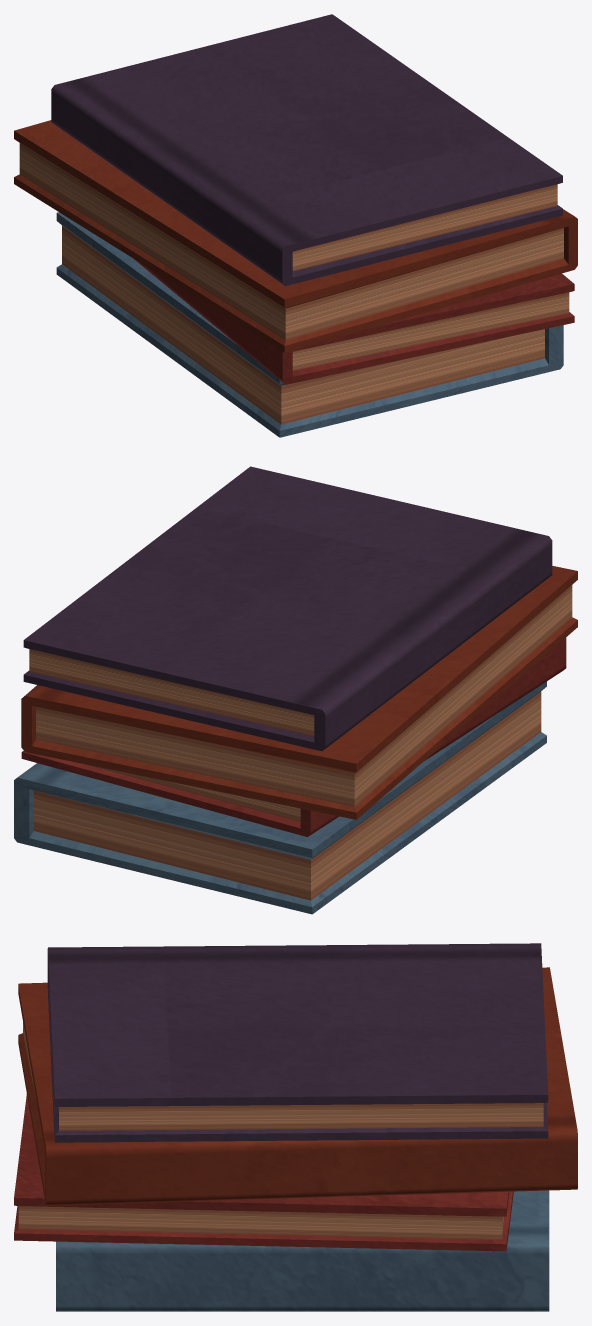
The model's file is books.fbx.
3 views of the same model, one above another, from view 1: azimuth 30°, elevation 25°; view 2: azimuth 150°, elevation 25°; view 3: azimuth 270°, elevation 25° (orthographic). The views are drawn at different scales.
Parts seen in each view (by area): view 1: Books; view 2: Books; view 3: Books.
Part boxes in pixels (x1,y1,x2,y2): Books: [14, 14, 577, 437]; Books: [14, 466, 577, 914]; Books: [14, 943, 577, 1311].
Size of the model in its own units: 25.85 by 14.13 by 33.8.
